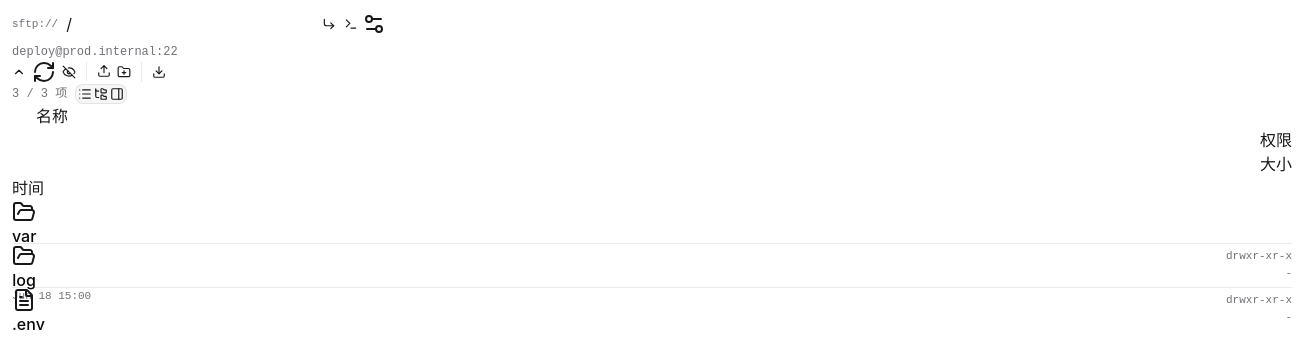
Test case: SftpToolContent browser modes › applies the hidden-file toggle to tree nodes without reloading the tree
This screenshot has width=1304, height=349.
Expected: the element with test id "sftp-remote-entry-list" is shown, [12,200,1292,332]
Click the button with test id "sftp-browser-mode-tree" at (101, 94), box [94,87,108,101]
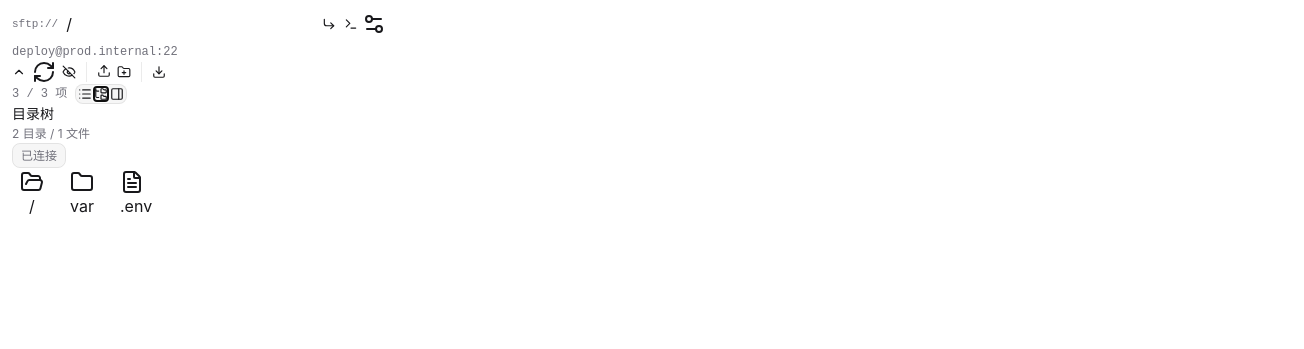
Expected: the list item ".env" is shown, [94,170,152,218]
Click the button named "隐藏隐藏文件" at (69, 72), box [62,65,76,79]
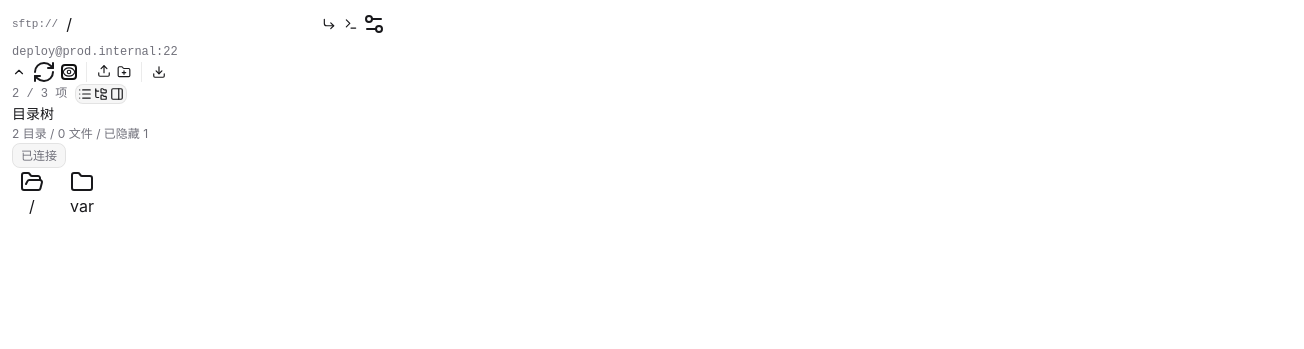
Now the list item ".env" is gone
Click the button named "显示隐藏文件" at (69, 72), box [62,65,76,79]
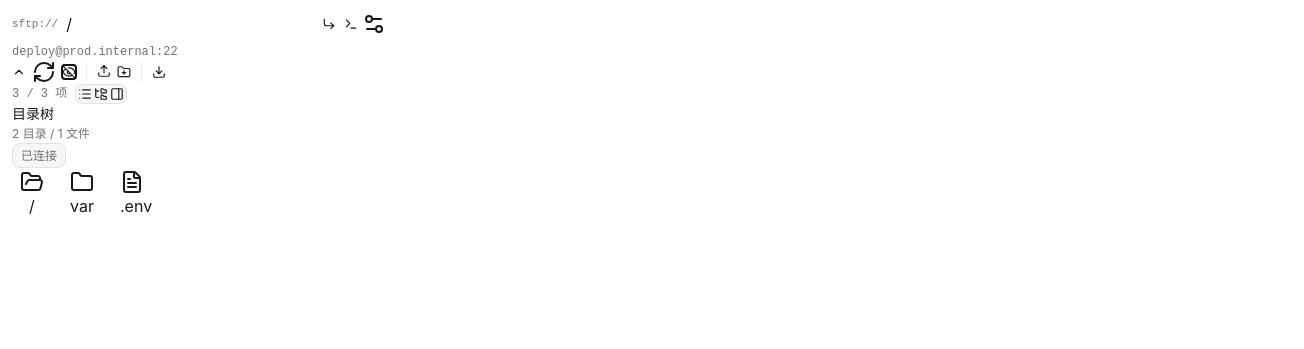
Now the list item ".env" is shown, box [94,170,152,218]
